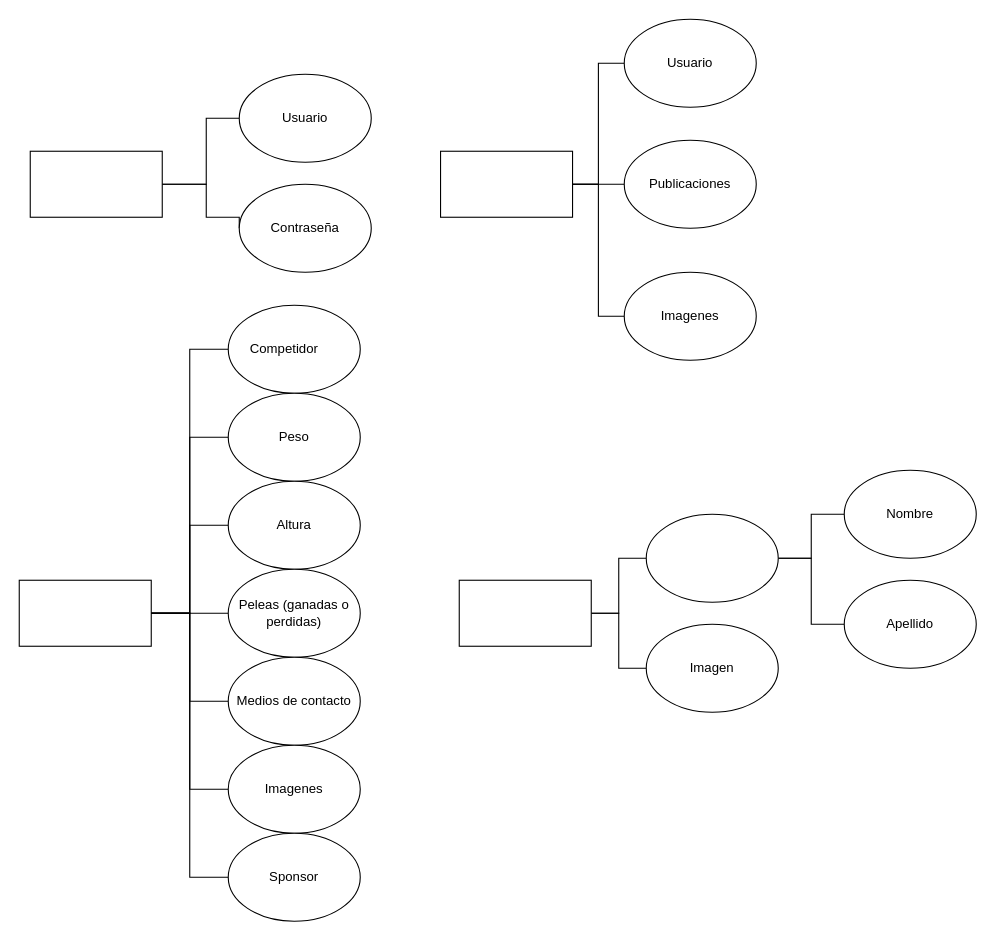
Some shapes in this 996 by 941 pixel diagram are drawn without their labels. The shapes that lost their labels are listed below. From the top down, each one's centre as x and y in pixels, then its label:
At (95,183): "Logeo".
At (506,183): "Foro".
At (711,557): "Nombre completo".
At (84,612): "Competidores".
At (524,612): "Cliente".
